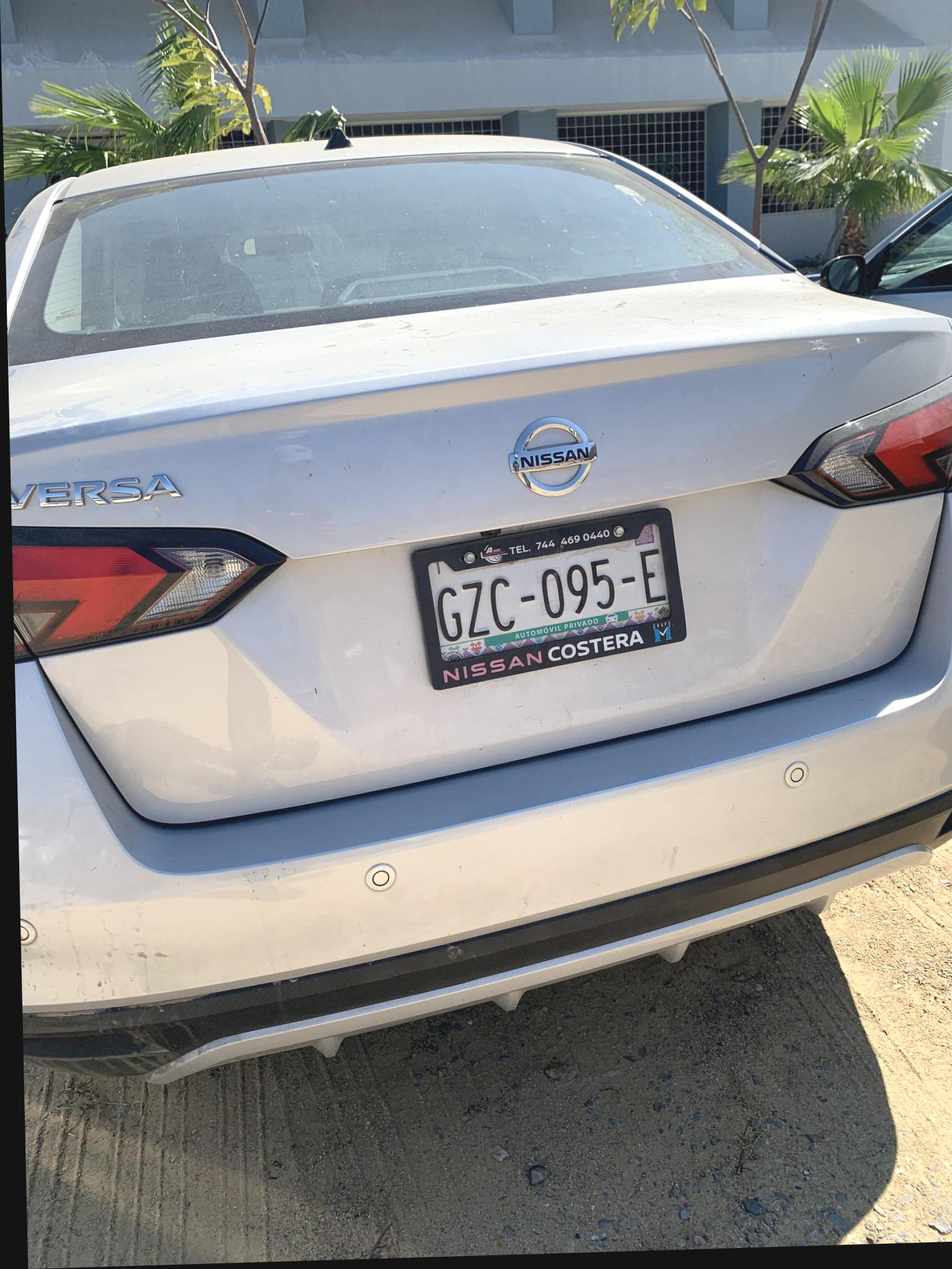License_Plate: (395, 515, 697, 697)
